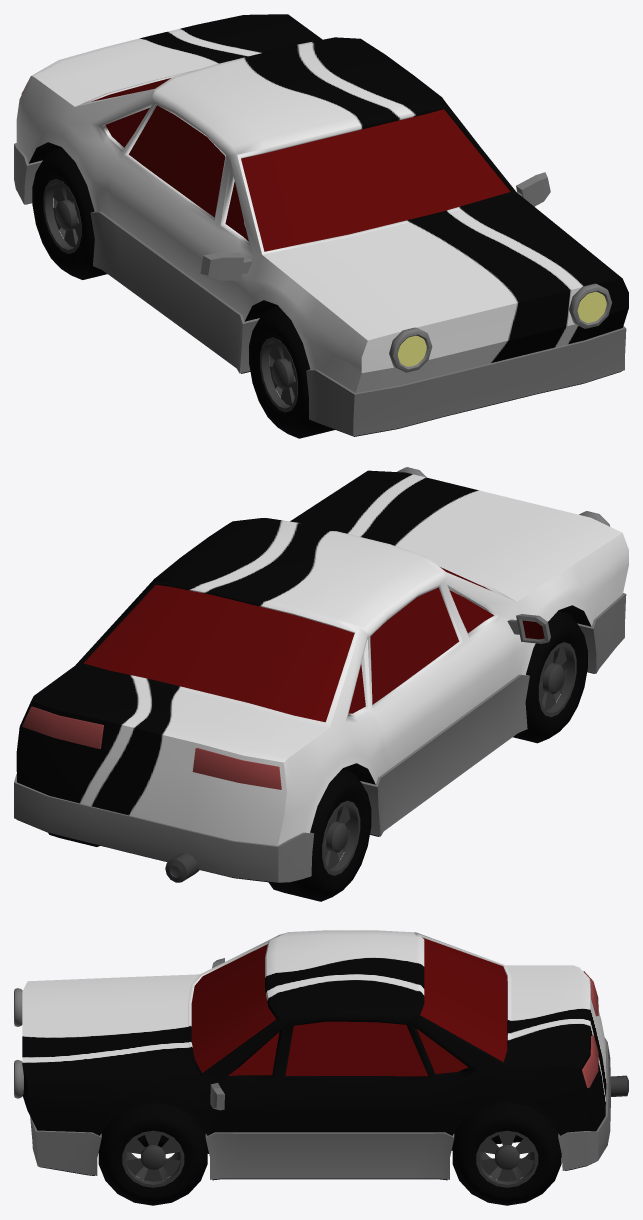
The model's file is Muscle Evolution1 Grey WaveBlackWhite DarkRed DarkGrey.gltf.
3 views of the same model, one above another, from view 1: azimuth 30°, elevation 25°; view 2: azimuth 150°, elevation 25°; view 3: azimuth 270°, elevation 25° (orthographic). The views are drawn at different scales.
Visible parts, largest first — view 1: evo1_body4_f1_dupl, evo1_sill0_f1_dupl, evo1_frontGlass_f1_dupl, evo1_glasseBigR_f1_dupl, evo1_tire_rf_f1_dupl, evo1_tire_rf1_f1_dupl, evo1_rim_A_rb_f1_dupl, evo1_rim_A_rf_f1_dupl, evo1_mirorR3_f1_dupl, evo1_blockLightR_f1_dupl, evo1_blockLightL_f1_dupl, evo1_mirorL3_f1_dupl (+4 smaller); view 2: evo1_body4_f1_dupl, evo1_sill0_f1_dupl, evo1_BackGlassGlass_f1_dupl, evo1_glasseBigR_f1_dupl, evo1_tire_rf_f1_dupl, evo1_tire_rf1_f1_dupl, evo1_rim_A_rf_f1_dupl, evo1_rim_A_rb_f1_dupl, evo1_redlightR2_f1_dupl, evo1_redlightL2_f1_dupl, evo1_glassfR_f1_dupl, evo1_pipe1_f1_dupl (+1 smaller); view 3: evo1_body4_f1_dupl, evo1_sill0_f1_dupl, evo1_BackGlassGlass_f1_dupl, evo1_glasseBigL_f1_dupl, evo1_frontGlass_f1_dupl, evo1_tire_lb_f1_dupl, evo1_tire_lf_f1_dupl, evo1_rim_A_lf_f1_dupl, evo1_rim_A_lb_f1_dupl, evo1_glassfL_f1_dupl, evo1_glassbL_f1_dupl, evo1_GroundBody_f1_dupl (+1 smaller).
Boxes of the visible parts, x1,y1,x2,y2 form: evo1_body4_f1_dupl: (16, 14, 628, 392); evo1_sill0_f1_dupl: (14, 143, 626, 436); evo1_frontGlass_f1_dupl: (241, 109, 510, 251); evo1_glasseBigR_f1_dupl: (128, 105, 225, 217); evo1_tire_rf_f1_dupl: (32, 147, 107, 279); evo1_tire_rf1_f1_dupl: (249, 306, 334, 438); evo1_rim_A_rb_f1_dupl: (43, 179, 81, 253); evo1_rim_A_rf_f1_dupl: (260, 337, 297, 412); evo1_mirorR3_f1_dupl: (200, 252, 252, 280); evo1_blockLightR_f1_dupl: (389, 327, 432, 372); evo1_blockLightL_f1_dupl: (569, 283, 612, 328); evo1_mirorL3_f1_dupl: (516, 172, 550, 206); evo1_body4_f1_dupl: (16, 470, 628, 845); evo1_sill0_f1_dupl: (14, 593, 626, 882); evo1_BackGlassGlass_f1_dupl: (83, 584, 354, 722); evo1_glasseBigR_f1_dupl: (370, 587, 458, 704); evo1_tire_rf_f1_dupl: (268, 769, 371, 901); evo1_tire_rf1_f1_dupl: (513, 610, 587, 743); evo1_rim_A_rf_f1_dupl: (538, 642, 576, 717); evo1_rim_A_rb_f1_dupl: (322, 800, 360, 875); evo1_redlightR2_f1_dupl: (192, 748, 281, 789); evo1_redlightL2_f1_dupl: (22, 706, 103, 748); evo1_glassfR_f1_dupl: (449, 590, 493, 632); evo1_pipe1_f1_dupl: (165, 853, 199, 882); evo1_body4_f1_dupl: (22, 930, 606, 1152); evo1_sill0_f1_dupl: (30, 1037, 610, 1179); evo1_BackGlassGlass_f1_dupl: (420, 937, 507, 1061); evo1_glasseBigL_f1_dupl: (285, 1021, 427, 1076); evo1_frontGlass_f1_dupl: (191, 944, 276, 1073); evo1_tire_lb_f1_dupl: (452, 1102, 561, 1205); evo1_tire_lf_f1_dupl: (98, 1102, 207, 1205); evo1_rim_A_lf_f1_dupl: (122, 1130, 184, 1187); evo1_rim_A_lb_f1_dupl: (476, 1130, 538, 1187); evo1_glassfL_f1_dupl: (228, 1032, 279, 1075); evo1_glassbL_f1_dupl: (416, 1028, 467, 1073); evo1_GroundBody_f1_dupl: (40, 1140, 594, 1180).
Size of the model in its own units: 177 by 112 by 331.
7 materials, 1 textured.
